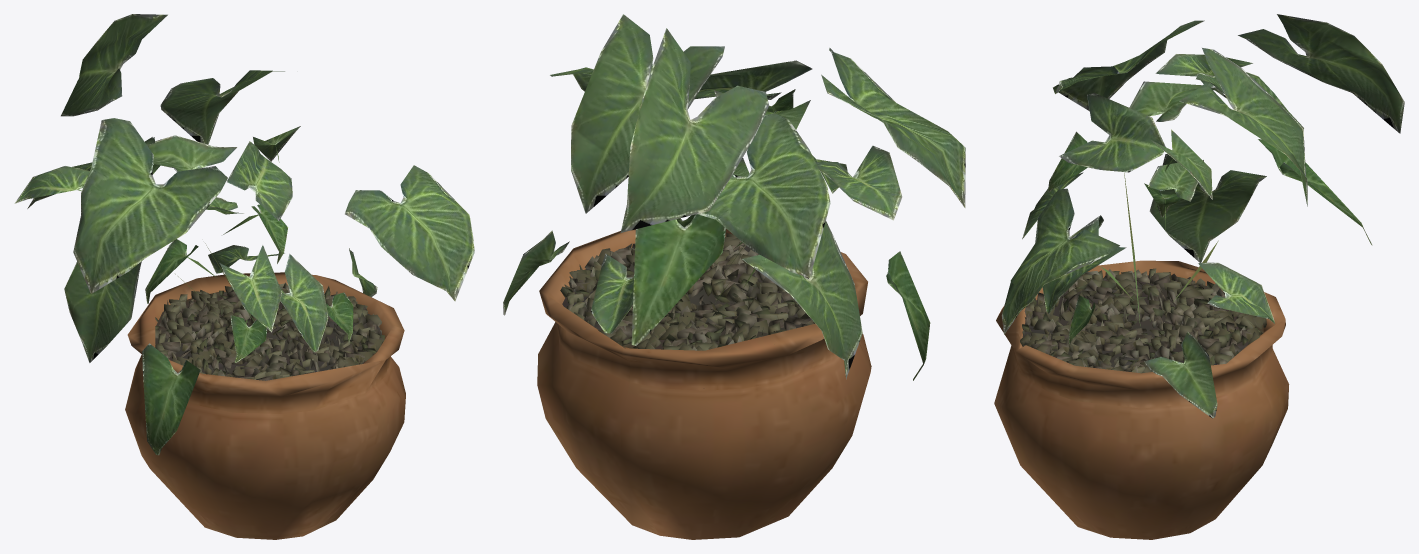
File: potted_plant_02.glb
The picture shows the model from 3 angles, left to right: view 1: azimuth 30°, elevation 25°; view 2: azimuth 150°, elevation 25°; view 3: azimuth 270°, elevation 25°; orthographic projection. The views are drawn at different scales.
Parts seen in each view (by area): view 1: potted_plant_02_leaves, potted_plant_02_dirt; view 2: potted_plant_02_leaves, potted_plant_02_dirt; view 3: potted_plant_02_dirt, potted_plant_02_leaves.
Part boxes in pixels (left/top/right/bottom): potted_plant_02_leaves: left=14, top=14, right=474, bottom=455; potted_plant_02_dirt: left=125, top=272, right=405, bottom=539; potted_plant_02_leaves: left=503, top=14, right=965, bottom=380; potted_plant_02_dirt: left=537, top=229, right=871, bottom=539; potted_plant_02_dirt: left=994, top=260, right=1289, bottom=539; potted_plant_02_leaves: left=1001, top=14, right=1404, bottom=418.
Size of the model in its own units: 0.7009 by 0.8396 by 0.6554.
Materials: 2 (2 with a texture image).
